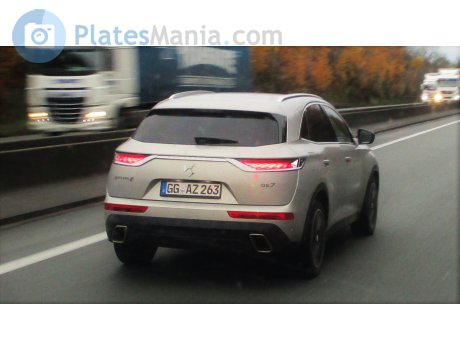License Plates: (166, 181, 219, 196)
